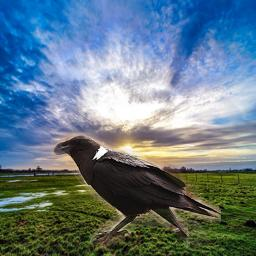Crow: (51, 132, 221, 251)
